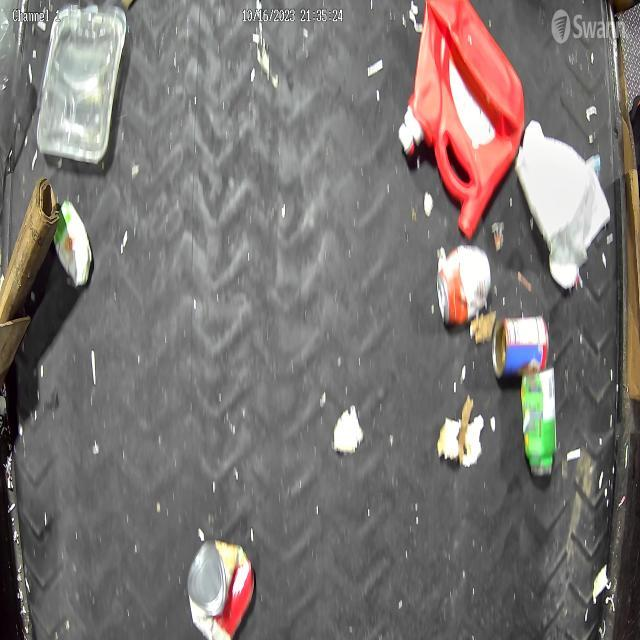can: (186, 539, 256, 640), (436, 244, 492, 327), (492, 312, 550, 380)
non_white_jug: (397, 0, 525, 239)
